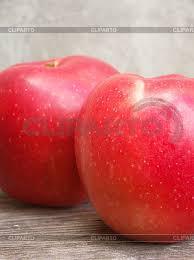apple: (74, 74, 191, 237), (1, 53, 118, 210)
